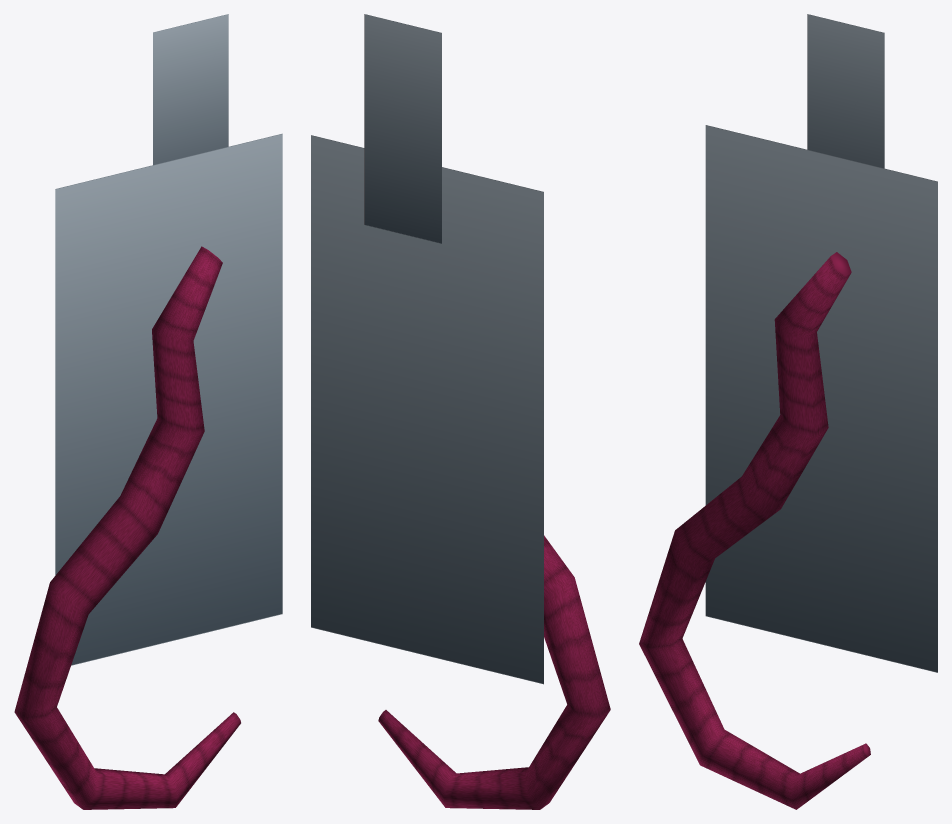
File: rubber_worm.glb
3 views of the same model, side by side, from view 1: azimuth 30°, elevation 25°; view 2: azimuth 150°, elevation 25°; view 3: azimuth 330°, elevation 25° (orthographic). The views are drawn at different scales.
Visible parts, largest first — view 1: rubber_worm__Hook_ALPHA_only, rubber_worm__Worm_body_MESH, rubber_worm__Leader_swivel_ALPHA_only; view 2: rubber_worm__Hook_ALPHA_only, rubber_worm__Leader_swivel_ALPHA_only, rubber_worm__Worm_body_MESH; view 3: rubber_worm__Hook_ALPHA_only, rubber_worm__Worm_body_MESH, rubber_worm__Leader_swivel_ALPHA_only.
Part boxes in pixels (box(x1,y1,x2,y2)): rubber_worm__Hook_ALPHA_only: box(55, 133, 282, 665); rubber_worm__Worm_body_MESH: box(14, 246, 240, 809); rubber_worm__Leader_swivel_ALPHA_only: box(153, 14, 228, 164); rubber_worm__Hook_ALPHA_only: box(311, 135, 543, 684); rubber_worm__Leader_swivel_ALPHA_only: box(364, 14, 441, 243); rubber_worm__Worm_body_MESH: box(378, 535, 610, 809); rubber_worm__Hook_ALPHA_only: box(705, 125, 937, 672); rubber_worm__Worm_body_MESH: box(639, 252, 870, 809); rubber_worm__Leader_swivel_ALPHA_only: box(807, 14, 884, 168).
Size of the model in its own units: 0.0327 by 0.0869 by 0.0057.
2 materials, 2 textured.
